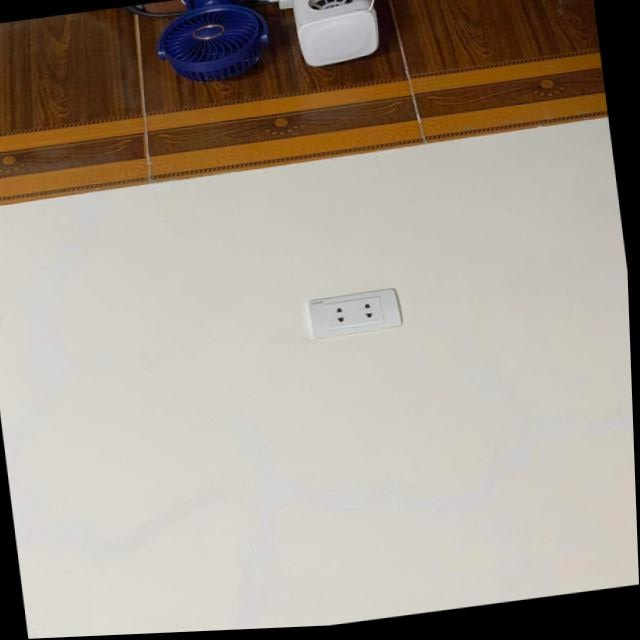outlet: (306, 288, 402, 342)
